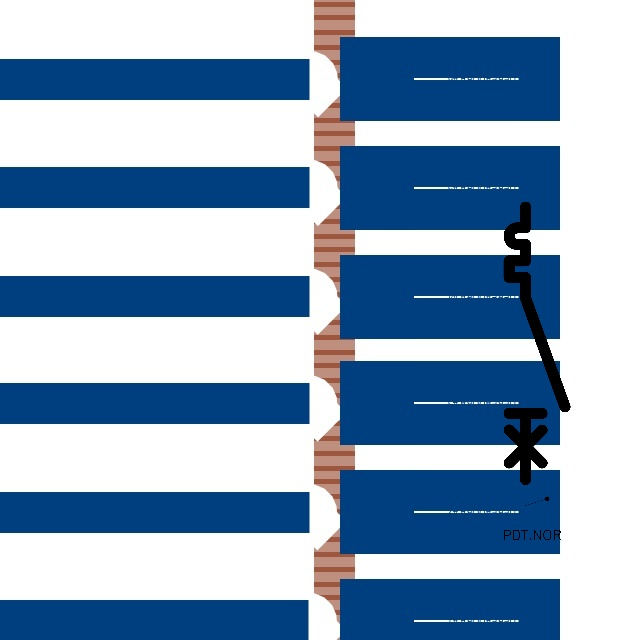interruptor_termomagnetico: (502, 200, 572, 486)
